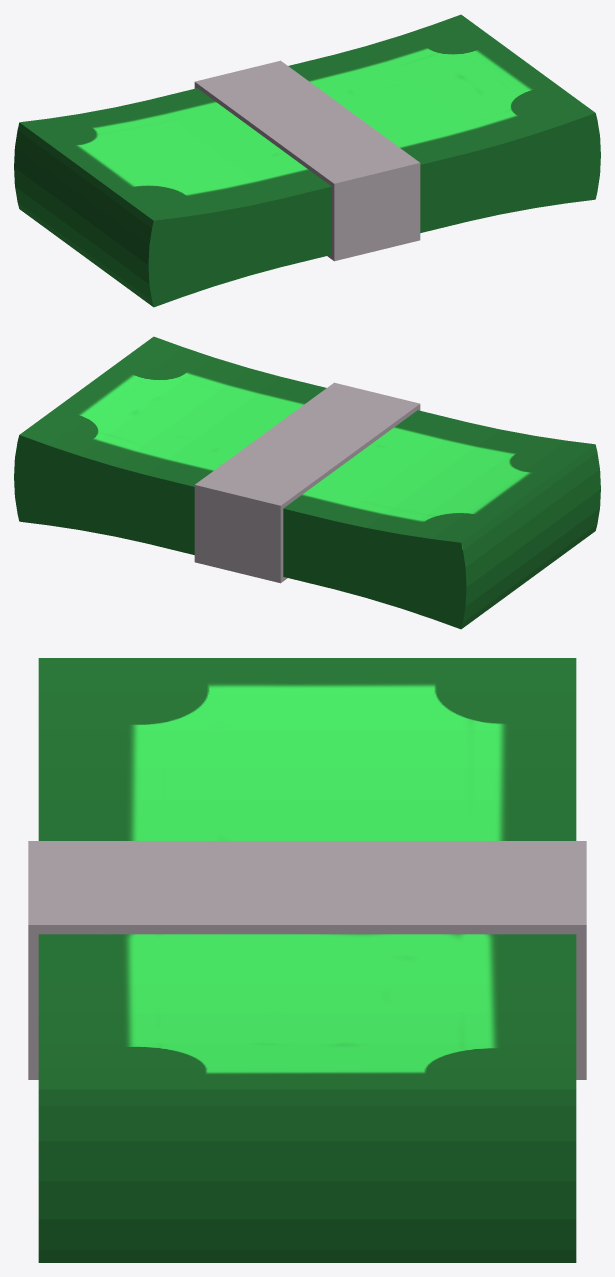
Rendered from geld.fbx.
The picture shows the model from 3 angles, top to bottom: view 1: azimuth 30°, elevation 25°; view 2: azimuth 150°, elevation 25°; view 3: azimuth 270°, elevation 25°; orthographic projection. The views are drawn at different scales.
Visible parts, largest first — view 1: Cube; view 2: Cube; view 3: Cube.
Part boxes in pixels (x1,y1,x2,y2): Cube: (14, 14, 600, 307); Cube: (14, 336, 600, 629); Cube: (28, 658, 586, 1262).
Bounding box in the file's own units: 389 × 71.18 × 208.
